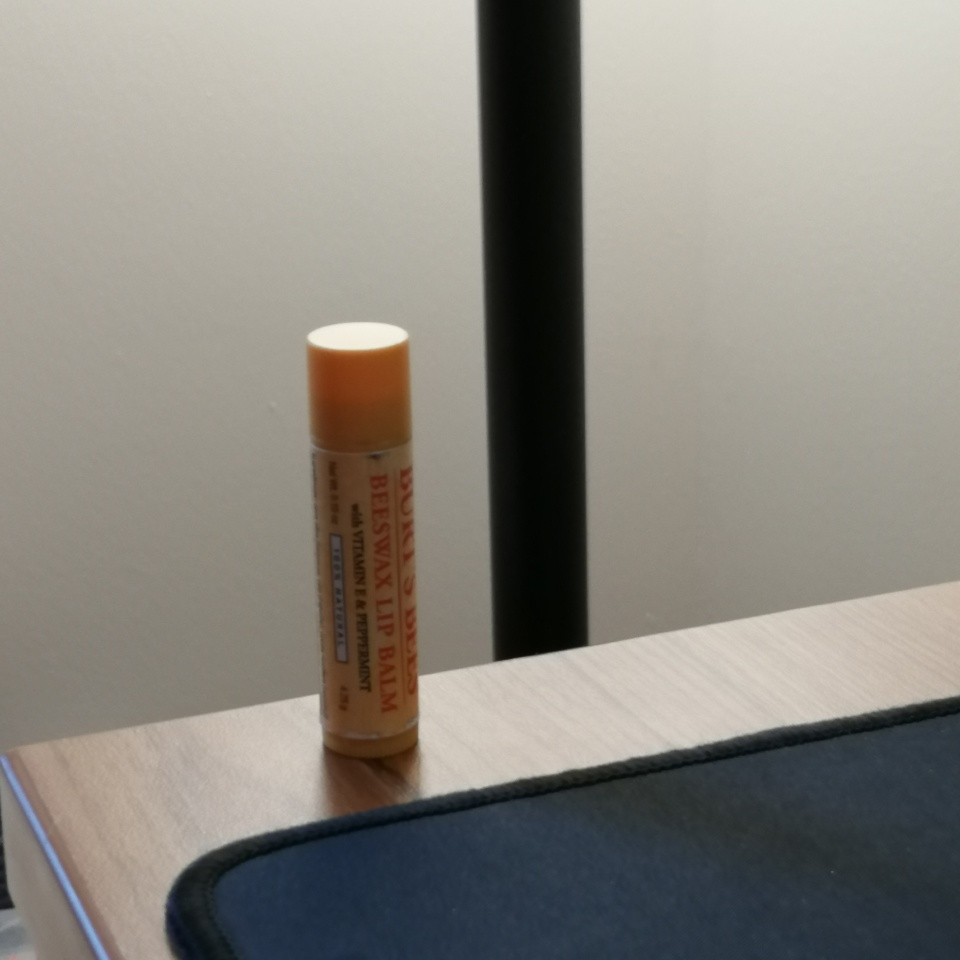chapstick: (306, 320, 423, 760)
